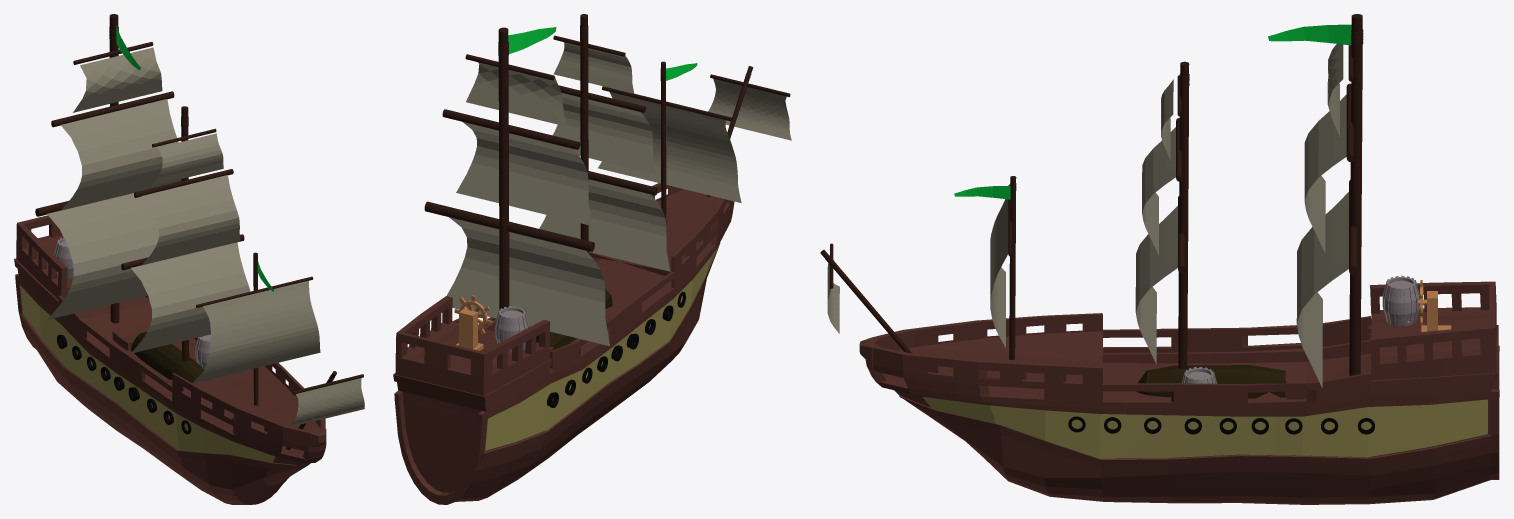
File: Frigate.glb
The picture shows the model from 3 angles, left to right: view 1: azimuth 30°, elevation 25°; view 2: azimuth 150°, elevation 25°; view 3: azimuth 270°, elevation 25°; orthographic projection. The views are drawn at different scales.
Parts seen in each view (by area): view 1: Frigate; view 2: Frigate; view 3: Frigate.
Boxes of the visible parts, x1,y1,x2,y2 form: Frigate: (14,14,364,504); Frigate: (393,14,791,504); Frigate: (820,14,1499,504).
Size of the model in its own units: 1.02 by 2.59 by 3.28.
